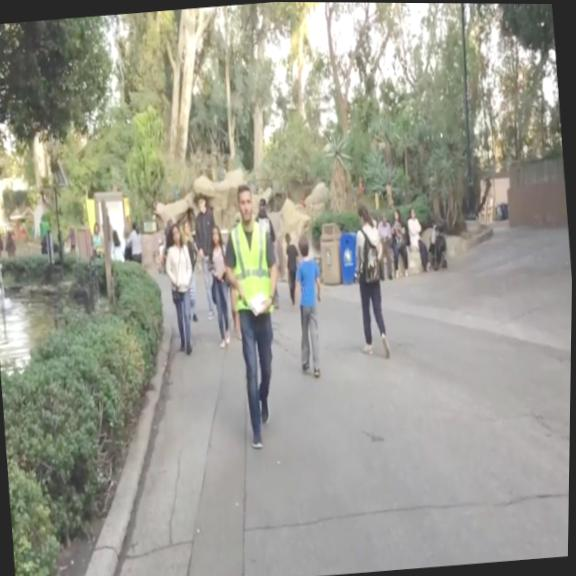safety_vest: (224, 217, 277, 319)
